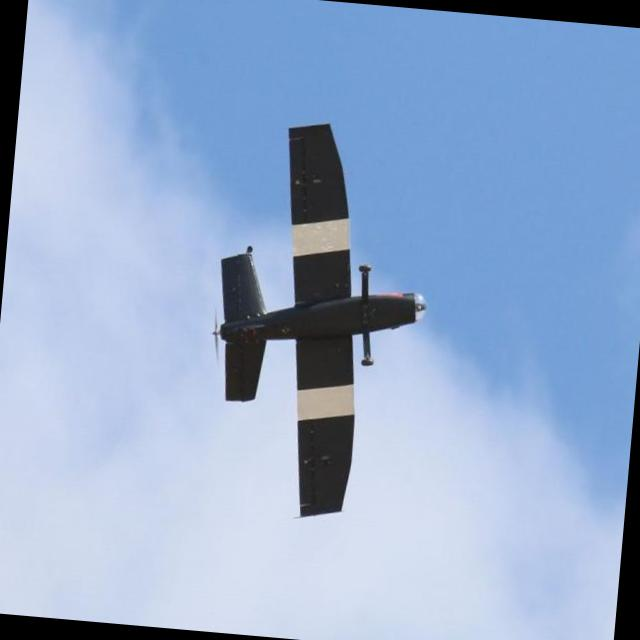UAV: (185, 157, 436, 496)
